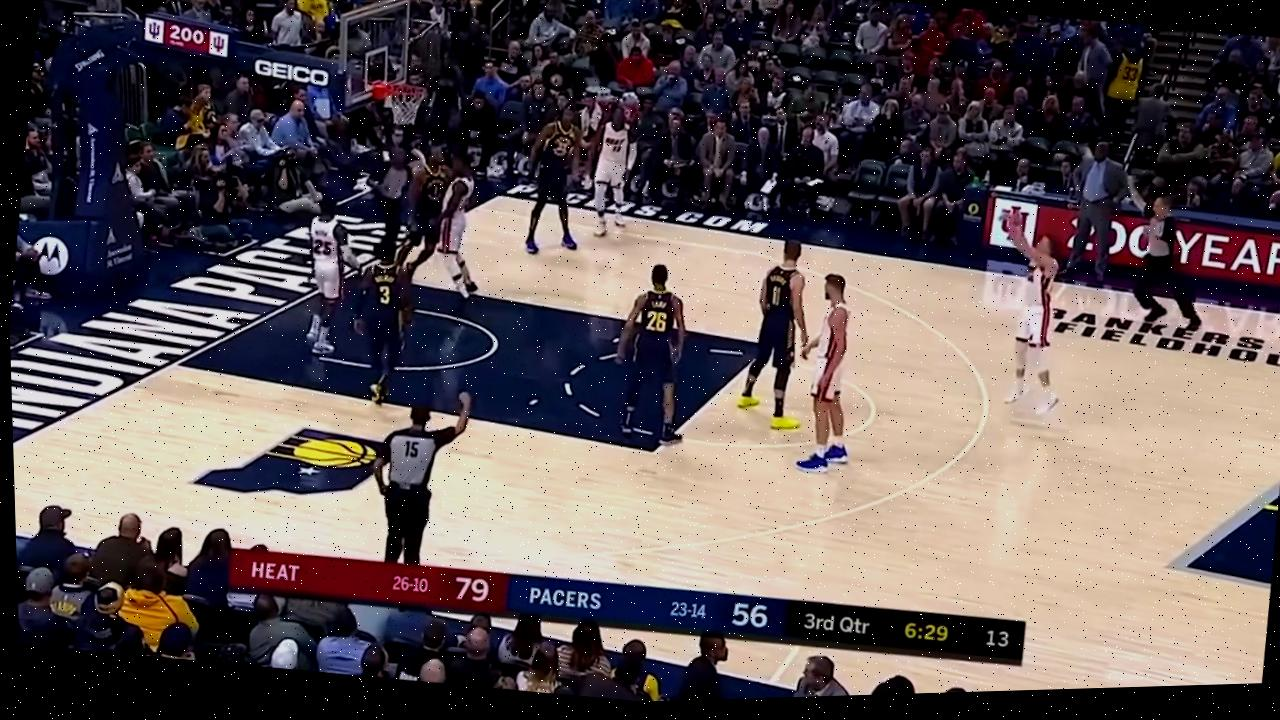foul: (372, 135, 502, 308)
